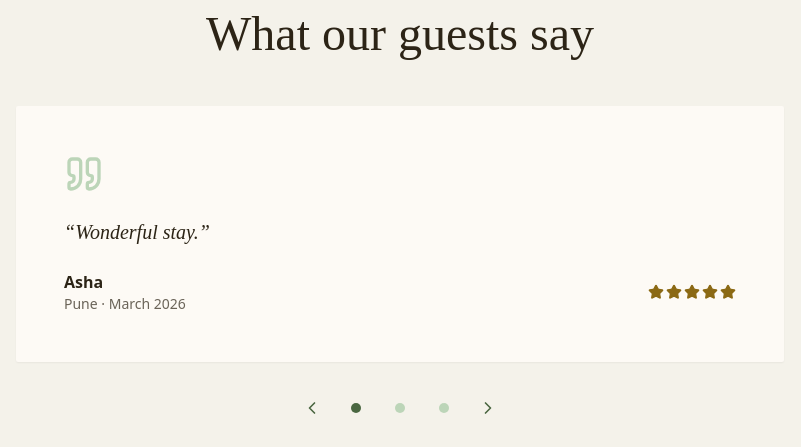
it: testimonial carousel › moves to a quote when its dot is pressed
This screenshot has width=801, height=447.
Click the button named "Show testimonial 3 of 3". click: [444, 408]
box: top-left (422, 386), bottom-right (466, 430)
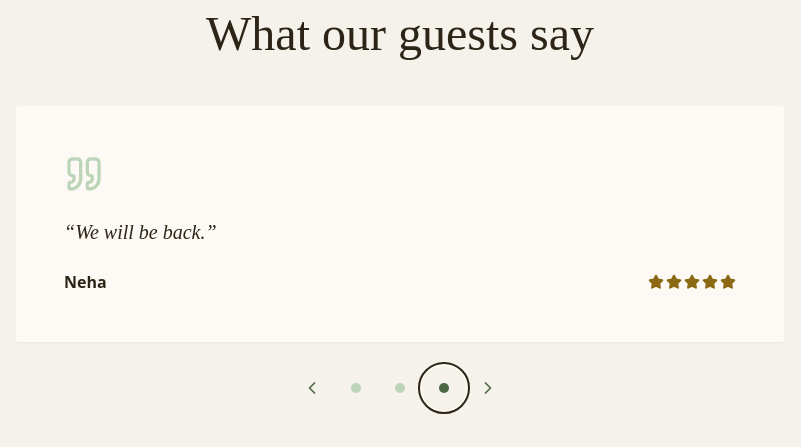
Now the text "“We will be back.”" is shown, box top-left (64, 221), bottom-right (217, 243)
Now the text "Wonderful stay" is gone
